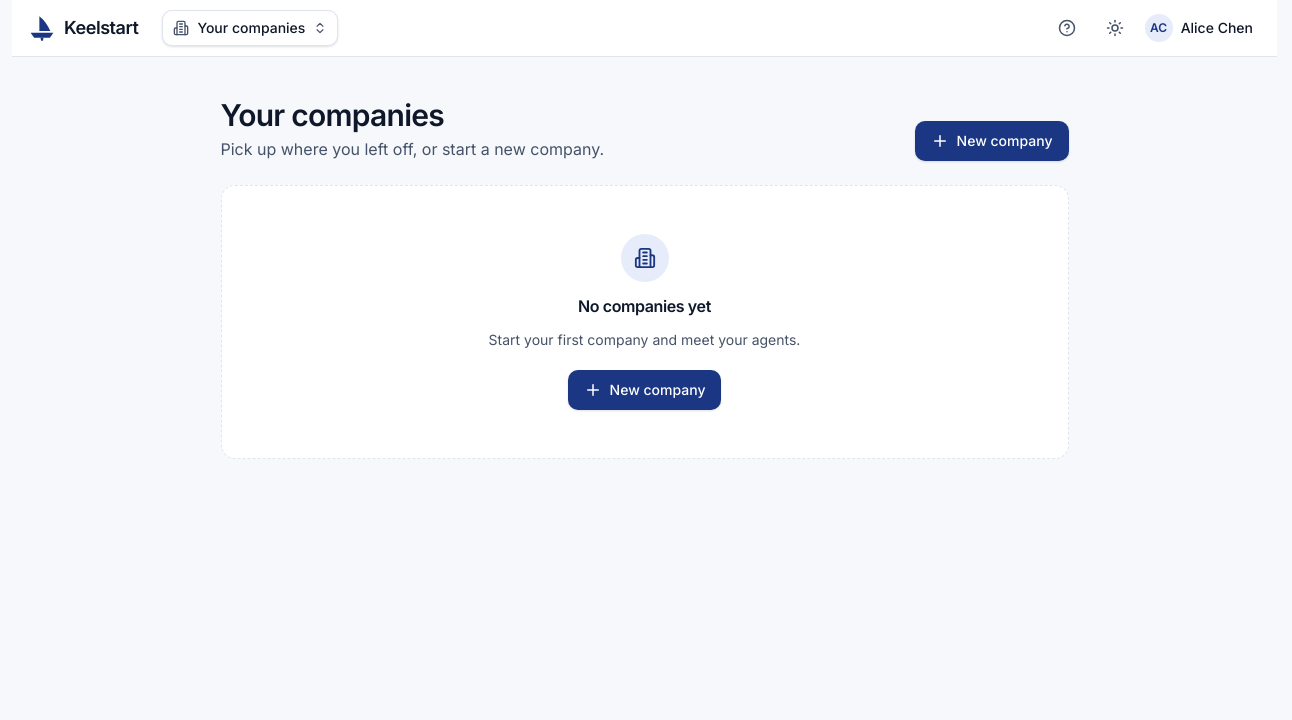
Test case: workspace (ADR-0019, ADR-0035) › account menu shows the plan badge, Settings and Log out
Click the button with aria-label "Account: Alice Chen": (1202, 28) [1143,12,1261,44]
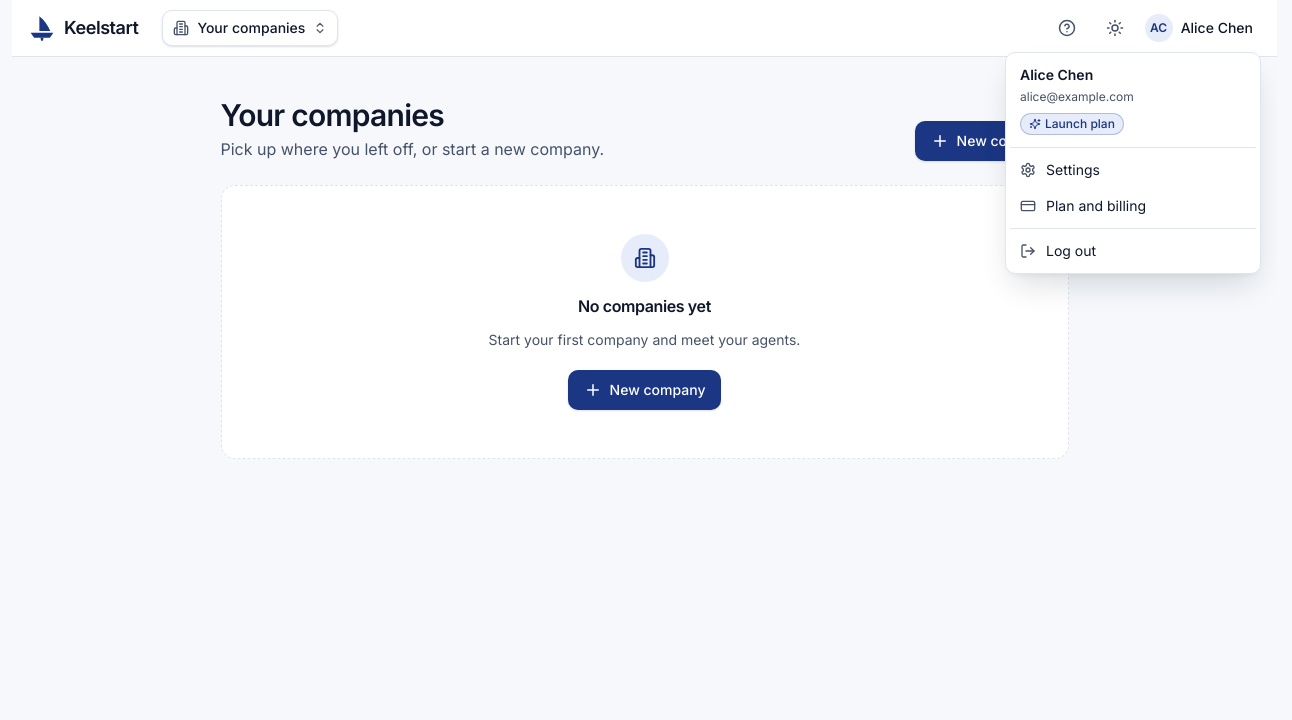
Check: the text "Launch plan" is shown, box [1045,116,1115,132]
Check: the menu item "Settings" is shown, box [1020,161,1100,178]
Click the menu item "Log out": (1058, 250) [1020,242,1096,259]
(page scrolled)
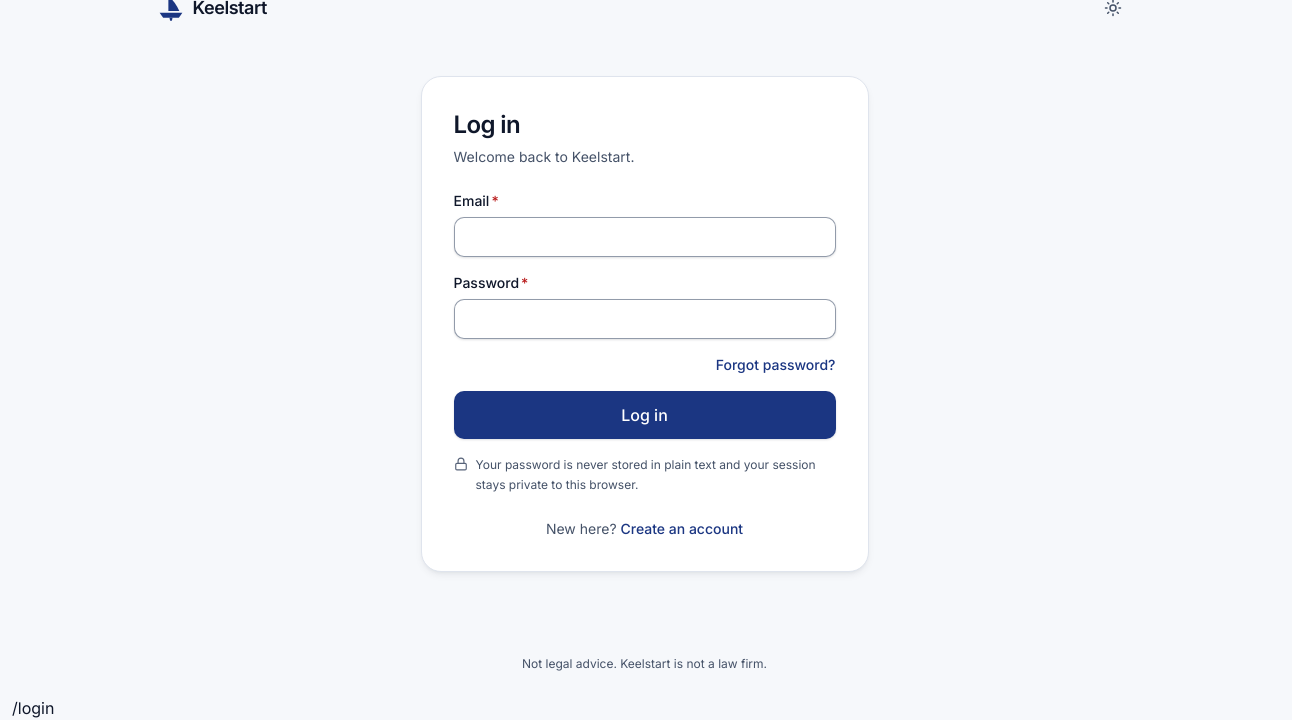
Check: the text with test id "location" reads "/login", box [12,698,54,718]
